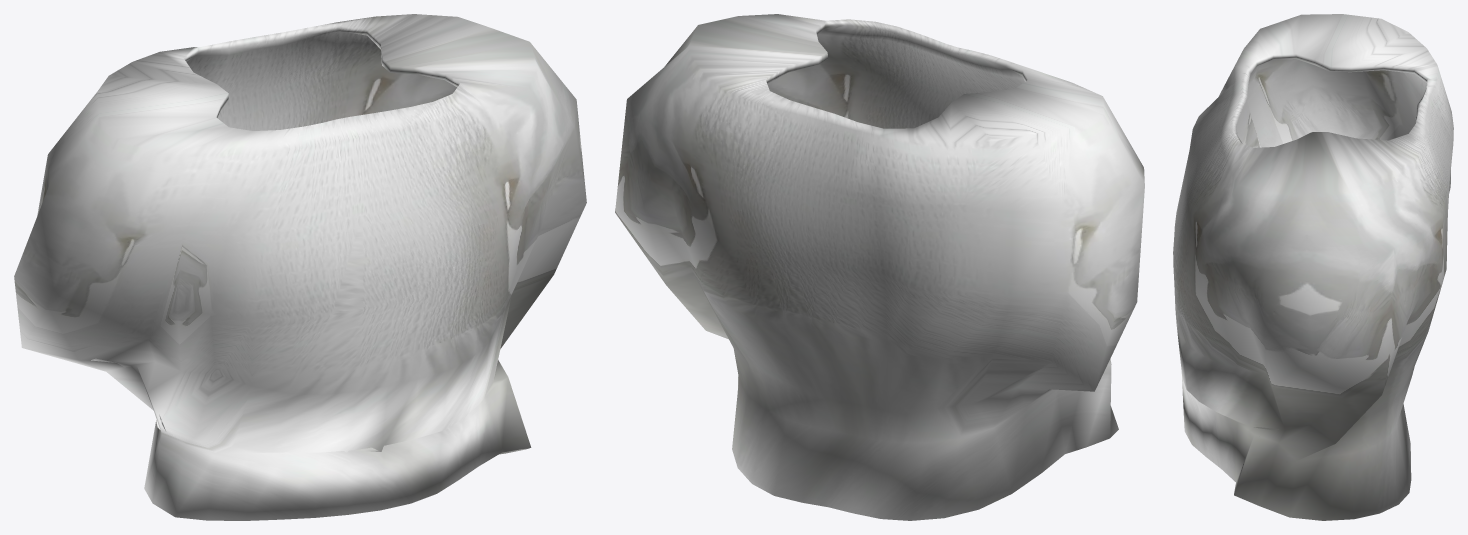
File: 9edb78ad-e447-4720-b19b-60b15b6768b2.glb
3 renders of one model, left to right at view 1: azimuth 30°, elevation 25°; view 2: azimuth 150°, elevation 25°; view 3: azimuth 270°, elevation 25°, orthographic. The views are drawn at different scales.
Visible parts, largest first — view 1: garment; view 2: garment; view 3: garment.
Boxes of the visible parts, left/top/right/bottom form: garment: left=14, top=14, right=586, bottom=520; garment: left=615, top=14, right=1144, bottom=520; garment: left=1173, top=14, right=1453, bottom=520.
Bounding box in the file's own units: 0.577 × 0.4418 × 0.3052.
1 material, 1 textured.
